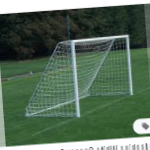goals: (24, 33, 133, 119)
